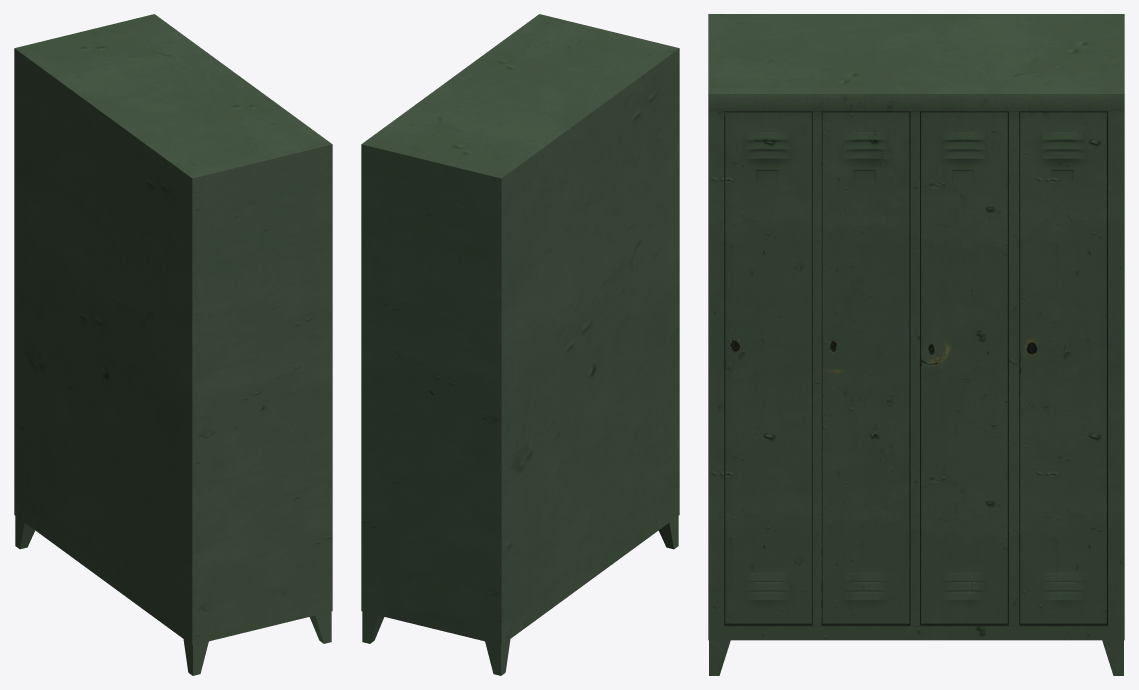
The model's file is locker 44p.fbx.
3 views of the same model, side by side, from view 1: azimuth 30°, elevation 25°; view 2: azimuth 150°, elevation 25°; view 3: azimuth 270°, elevation 25° (orthographic). The views are drawn at different scales.
Parts seen in each view (by area): view 1: locker; view 2: locker; view 3: locker.
Boxes of the visible parts, box(x1,y1,x2,y2) form: locker: box(14, 14, 332, 675); locker: box(361, 14, 679, 675); locker: box(708, 14, 1124, 675).
Bounding box in the file's own units: 58.39 × 198 × 128.
